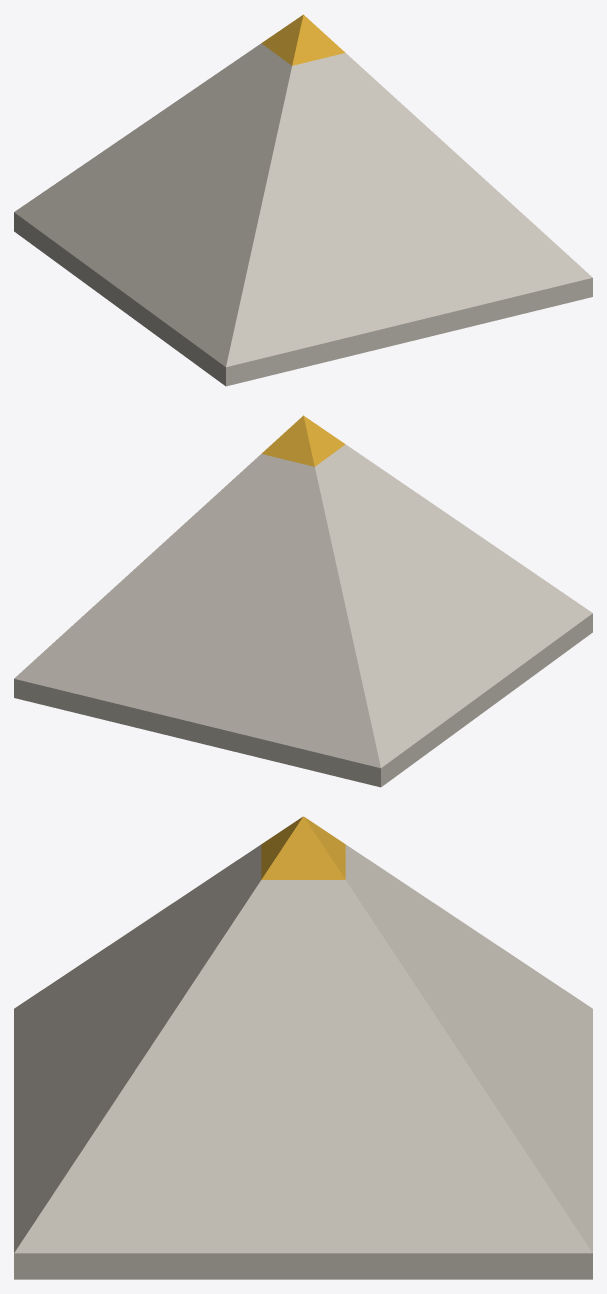
The model's file is eg_pyramidion.glb.
3 views of the same model, one above another, from view 1: azimuth 30°, elevation 25°; view 2: azimuth 150°, elevation 25°; view 3: azimuth 270°, elevation 25° (orthographic). The views are drawn at different scales.
Visible parts, largest first — view 1: eg_pyramidion; view 2: eg_pyramidion; view 3: eg_pyramidion.
Part boxes in pixels (x1=…): eg_pyramidion: x1=14, y1=14, x2=592, y2=386; eg_pyramidion: x1=14, y1=415, x2=592, y2=787; eg_pyramidion: x1=14, y1=816, x2=592, y2=1279.
Size of the model in its own units: 4 by 2.6 by 4.
